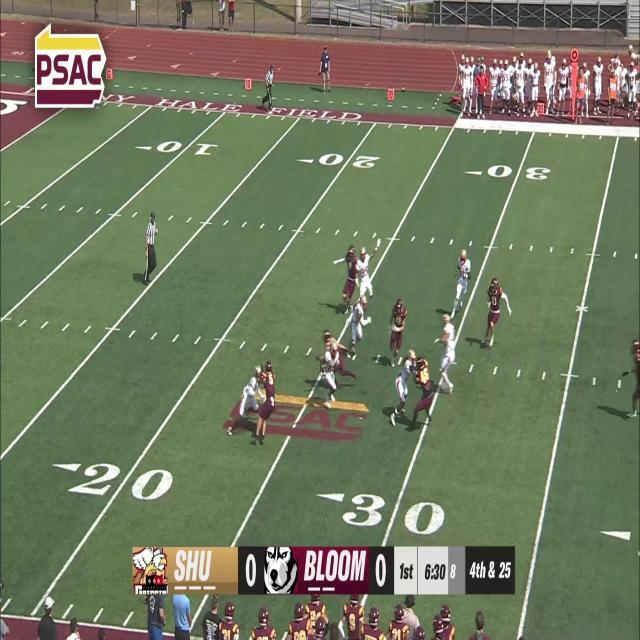football: (322, 365, 327, 378)
